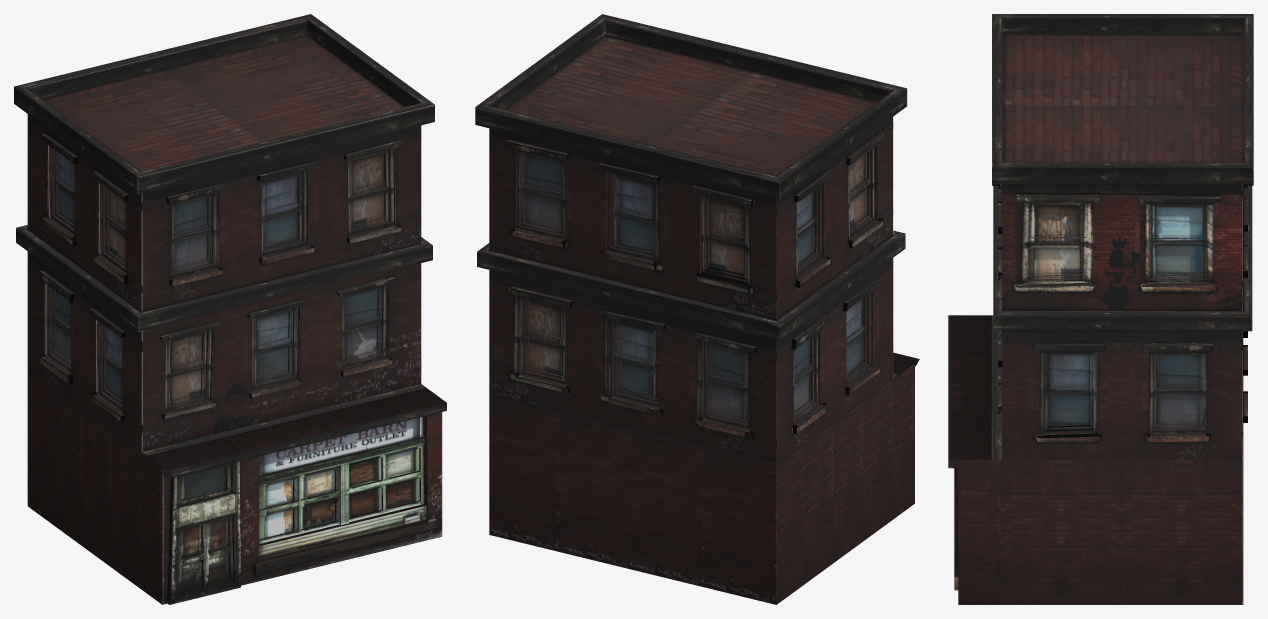
The model's file is old_building.glb.
The picture shows the model from 3 angles, left to right: view 1: azimuth 30°, elevation 25°; view 2: azimuth 150°, elevation 25°; view 3: azimuth 270°, elevation 25°; orthographic projection. The views are drawn at different scales.
Visible parts, largest first — view 1: Cube; view 2: Cube; view 3: Cube.
Part boxes in pixels (x1,y1,x2,y2): Cube: [14, 14, 446, 604]; Cube: [475, 14, 919, 604]; Cube: [948, 14, 1253, 604].
Bounding box in the file's own units: 453 × 609 × 381.
Materials: 6 (6 with a texture image).
